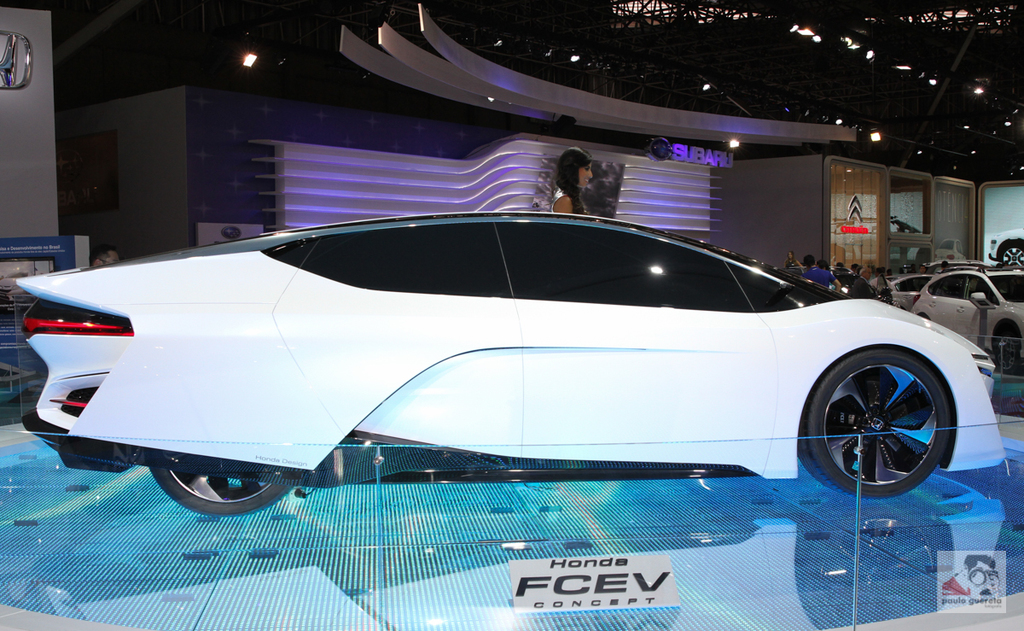Car: (14, 210, 1006, 519), (911, 259, 1023, 374), (780, 266, 855, 297), (887, 274, 931, 309), (989, 228, 1023, 271), (933, 238, 965, 262), (1, 273, 26, 299)
